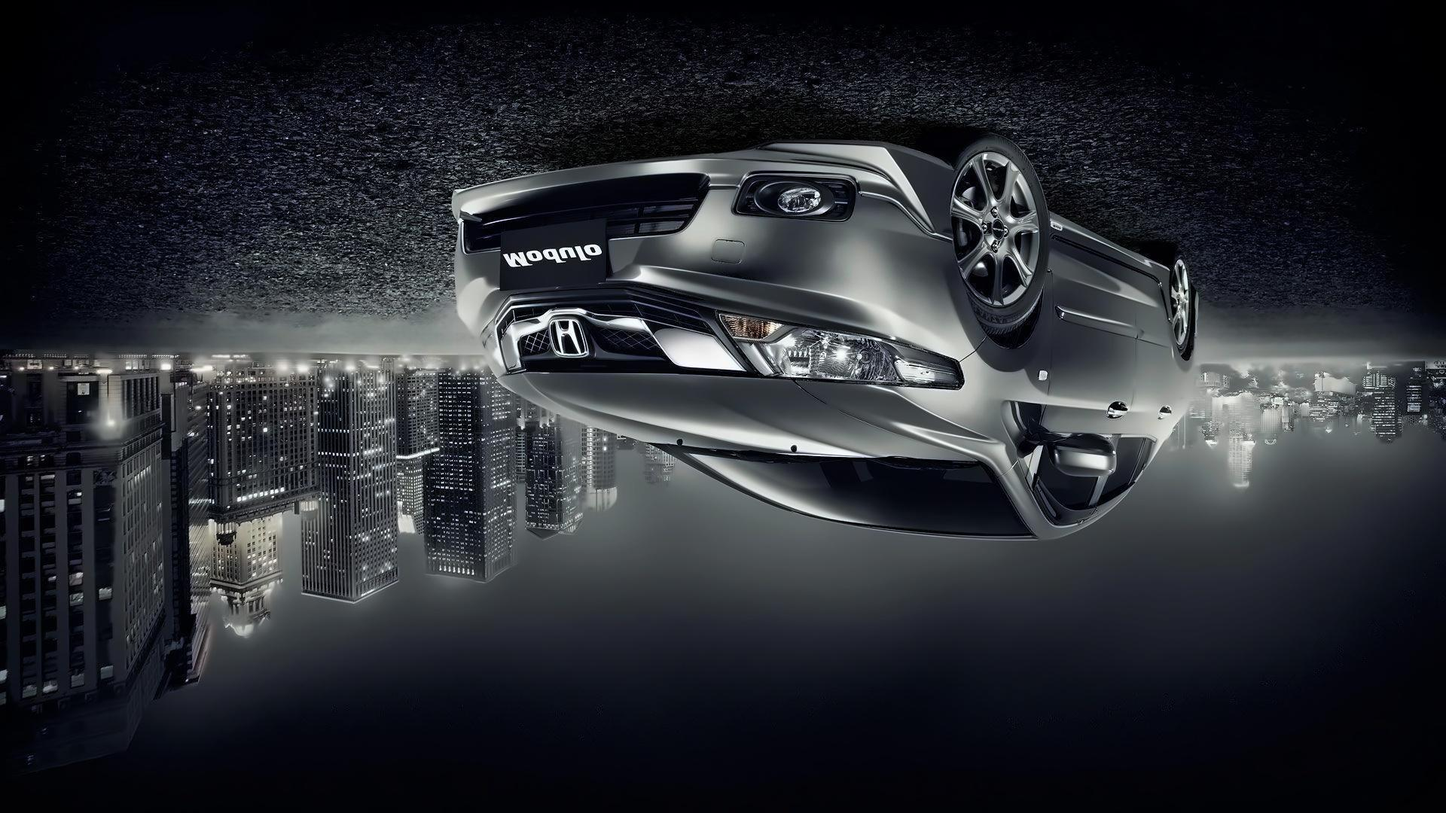Car hood: (478, 363, 993, 469)
Driver-s door - -F-R-: (1016, 182, 1139, 575)
Fender - -F-R-: (940, 300, 1073, 467)
Fender - -R-R-: (1151, 333, 1213, 398)
Front bumper: (429, 134, 952, 244)
Headlight - -L-: (466, 309, 514, 398)
Passenger-s door - -R-R-: (1092, 213, 1178, 553)
Rear light - -R-: (713, 303, 965, 392)
Side bumper - -R-: (1012, 200, 1184, 309)
Side mirror - -R-: (1041, 409, 1126, 501)
